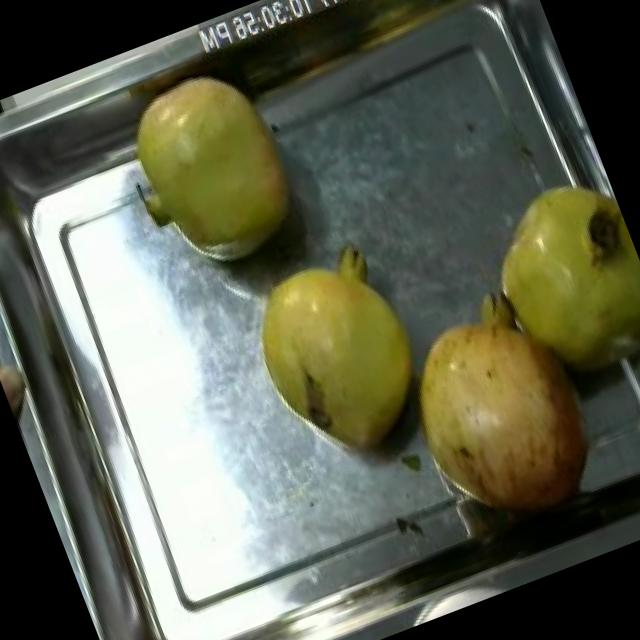fruit: (363, 266, 639, 565), (224, 221, 459, 482), (100, 46, 324, 294), (448, 150, 640, 413), (0, 332, 47, 434)
